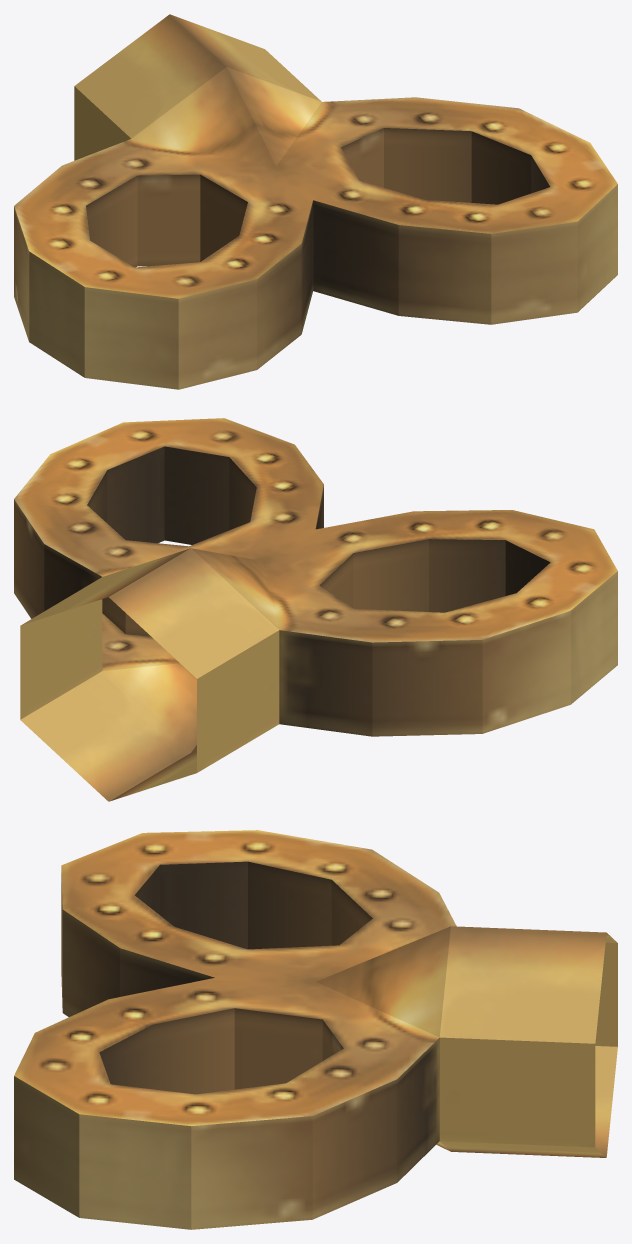
The model's file is add_back10_Spring.FBX.
The picture shows the model from 3 angles, top to bottom: view 1: azimuth 30°, elevation 25°; view 2: azimuth 150°, elevation 25°; view 3: azimuth 270°, elevation 25°; orthographic projection. The views are drawn at different scales.
Parts seen in each view (by area): view 1: Spring; view 2: Spring; view 3: Spring.
Part boxes in pixels (x1,y1,x2,y2): Spring: (14,14,617,389); Spring: (14,418,617,801); Spring: (14,830,617,1229).
Size of the model in its own units: 0.6902 by 0.2452 by 0.5951.
